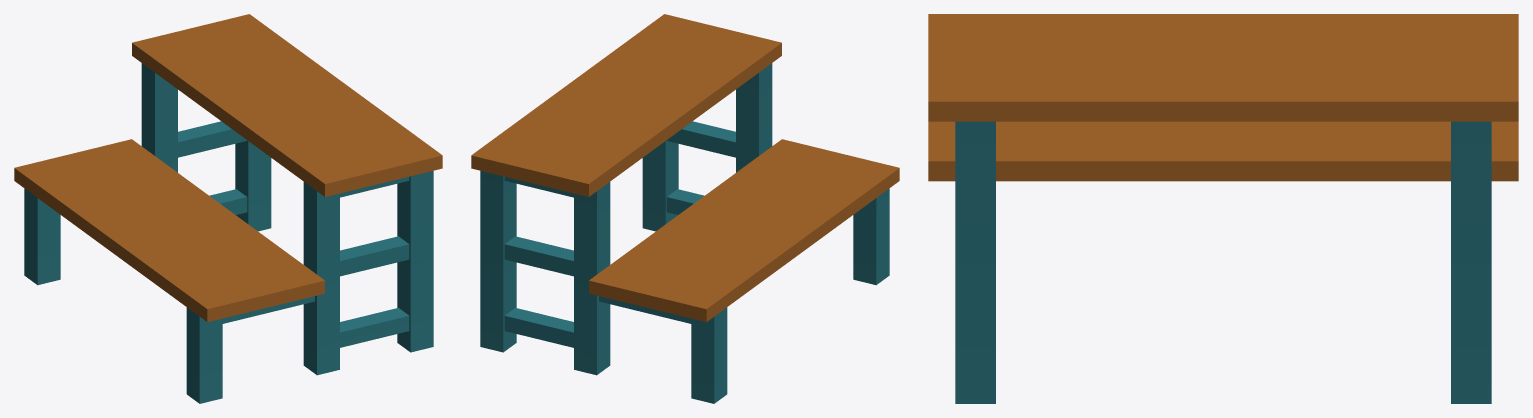
Rendered from Bench_1_E_6.glb.
3 renders of one model, left to right at view 1: azimuth 30°, elevation 25°; view 2: azimuth 150°, elevation 25°; view 3: azimuth 270°, elevation 25°, orthographic. The views are drawn at different scales.
Parts seen in each view (by area): view 1: Bench_1_E_6; view 2: Bench_1_E_6; view 3: Bench_1_E_6.
Boxes of the visible parts, x1,y1,x2,y2 form: Bench_1_E_6: (14, 14, 442, 403); Bench_1_E_6: (471, 14, 899, 403); Bench_1_E_6: (928, 14, 1518, 403).
Bounding box in the file's own units: 0.8137 × 0.654 × 1.16.
2 materials, 2 textured.
